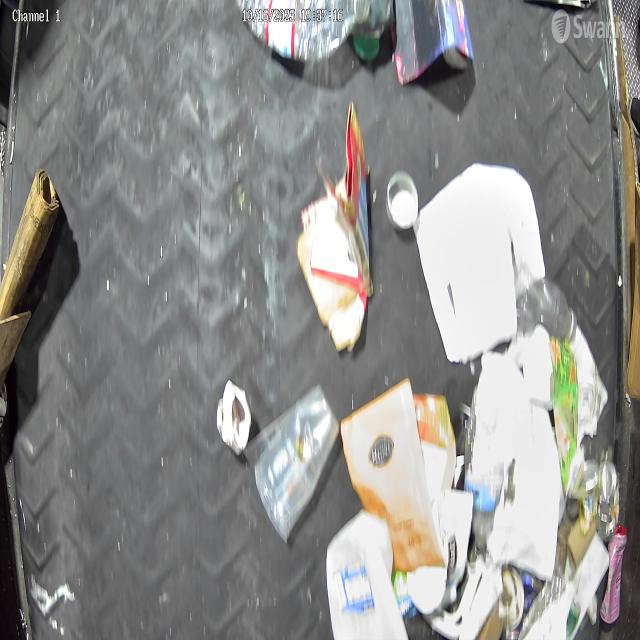can: (217, 381, 253, 456), (386, 168, 420, 233), (497, 562, 525, 632), (597, 459, 620, 544), (580, 456, 602, 533)
milk_jug: (325, 510, 409, 640)
plastic_bottle: (237, 0, 372, 64), (464, 382, 504, 557), (512, 257, 578, 342)
